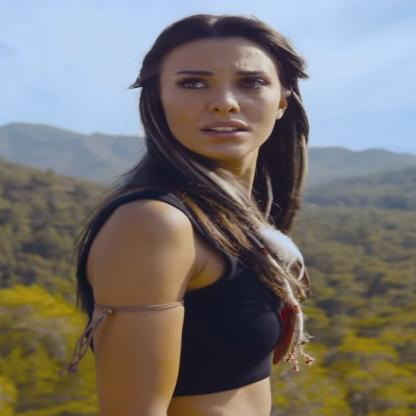person: (145, 17, 317, 191)
